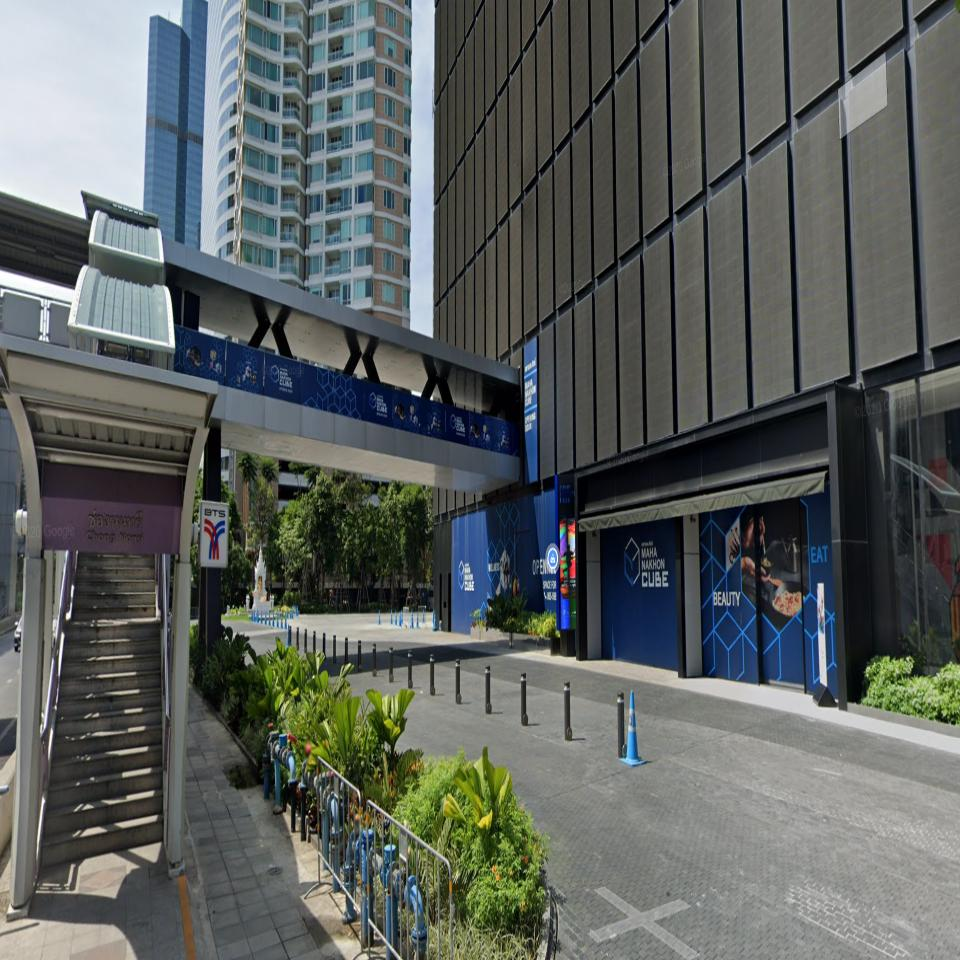signage: (42, 500, 229, 568), (42, 499, 182, 554)
